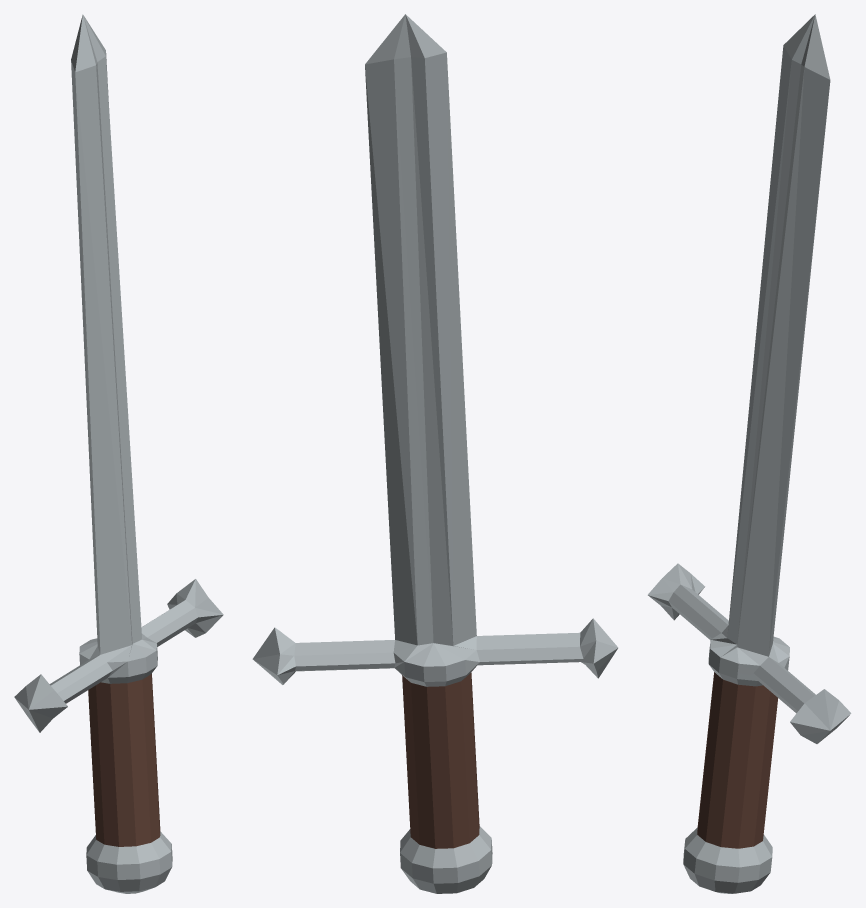
Rendered from sword.gltf.
3 renders of one model, left to right at view 1: azimuth 30°, elevation 25°; view 2: azimuth 150°, elevation 25°; view 3: azimuth 270°, elevation 25°, orthographic. The views are drawn at different scales.
Visible parts, largest first — view 1: node_MeshObject-215076224-PolyPaper20; view 2: node_MeshObject-215076224-PolyPaper20; view 3: node_MeshObject-215076224-PolyPaper20.
Boxes of the visible parts, x1,y1,x2,y2 form: node_MeshObject-215076224-PolyPaper20: (14,14,223,893); node_MeshObject-215076224-PolyPaper20: (252,14,618,893); node_MeshObject-215076224-PolyPaper20: (648,14,851,893).
Size of the model in its own units: 0.3646 by 1.13 by 0.2389.
